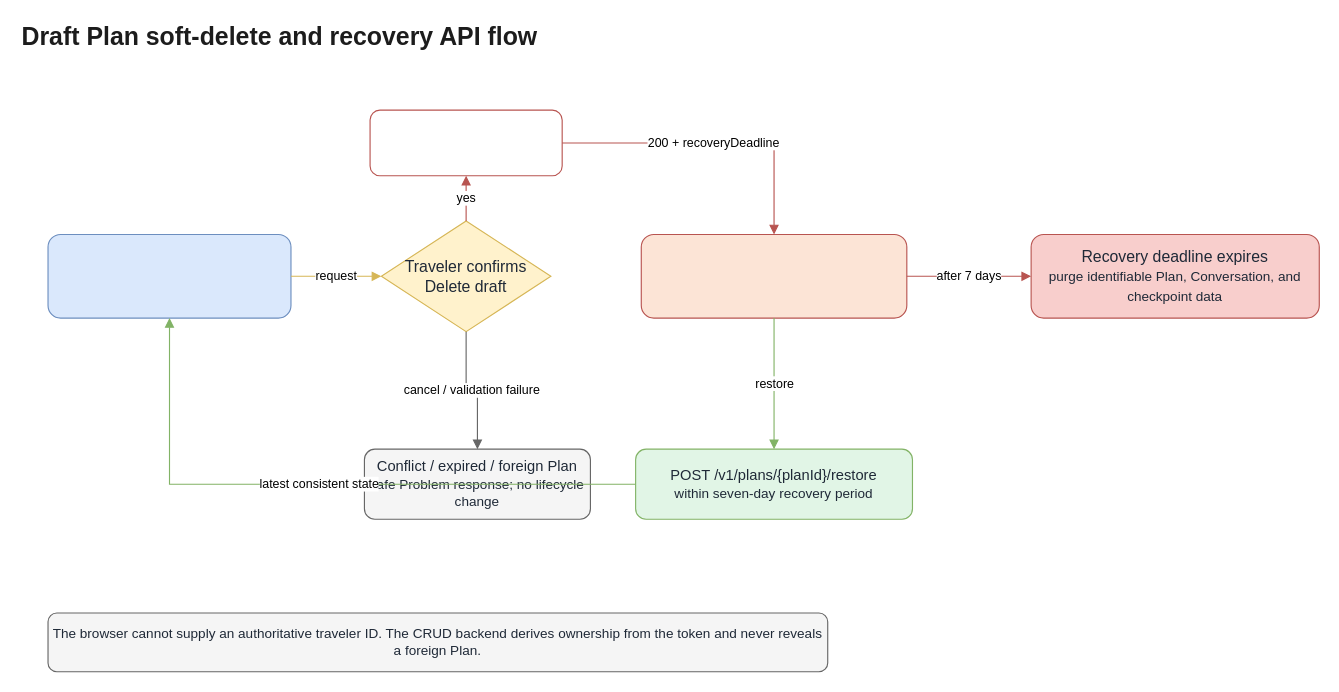
This 1339x692 diagram has some shape labels left out. The shapes that lost their labels are listed below. From the top down, each one's centre as x and y in pixels, then its label:
At (465,142): "DELETE /v1/plans/{planId} Idempotency-Key + expected revision".
At (169,275): "Active Draft Plan visible in GET /v1/plans?view=active".
At (773,275): "Recently deleted hidden from active list; recovery deadline saved".
